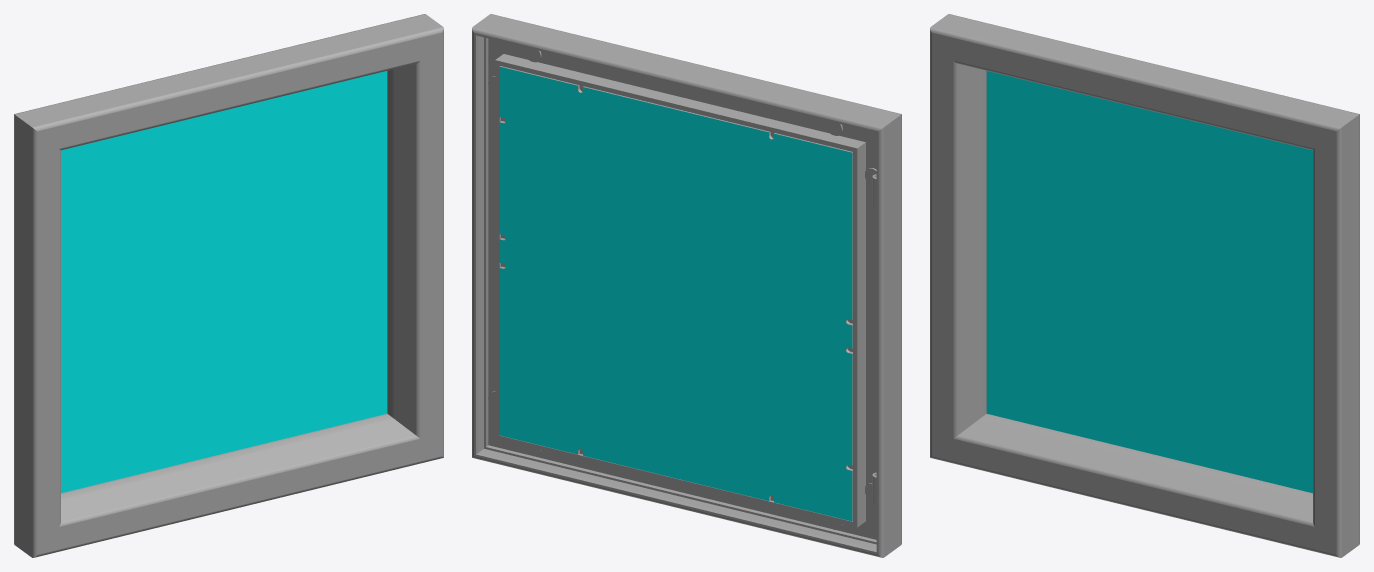
The model's file is HMI_OperatorPanel.fbx.
The picture shows the model from 3 angles, left to right: view 1: azimuth 30°, elevation 25°; view 2: azimuth 150°, elevation 25°; view 3: azimuth 330°, elevation 25°; orthographic projection.
Visible parts, largest first — view 1: 2742.000_1; view 2: 2742.000_1; view 3: 2742.000_1.
Boxes of the visible parts, <box> form: 2742.000_1: <box>14,14,443,557</box>; 2742.000_1: <box>472,14,901,557</box>; 2742.000_1: <box>930,14,1359,557</box>.
Bounding box in the file's own units: 377 × 377 × 34.5.
